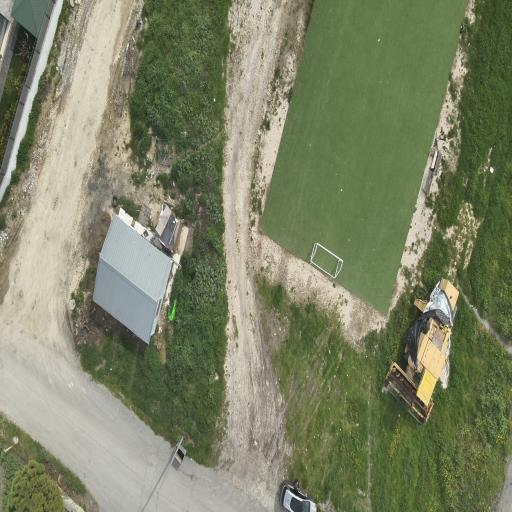car: (280, 481, 317, 511)
harvester: (385, 279, 458, 423)
